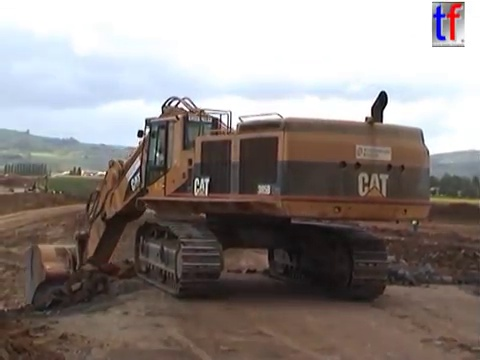excavator: (22, 88, 437, 316), (22, 180, 49, 195)
worker: (407, 207, 422, 233)
